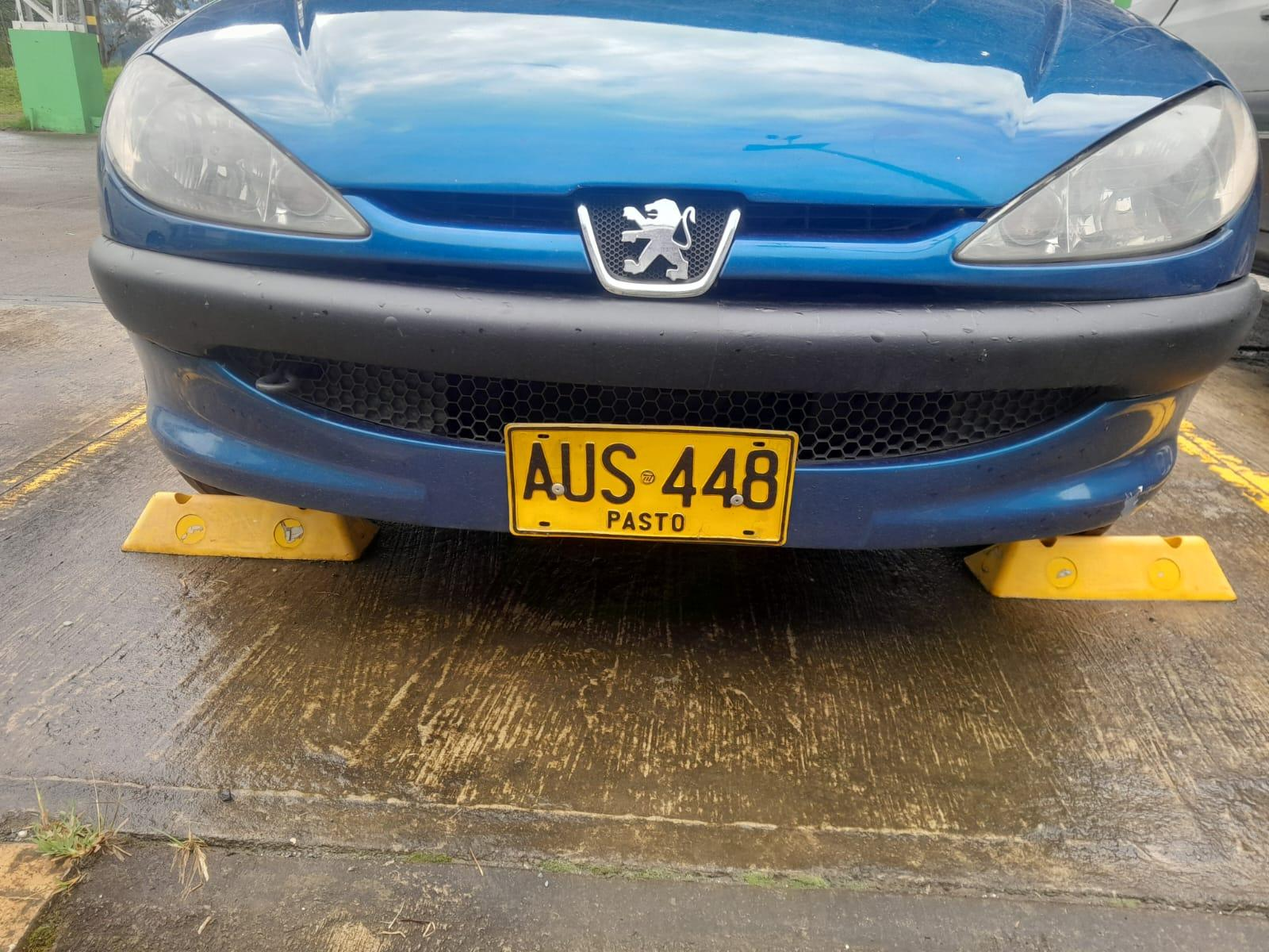placa: (504, 424, 798, 543)
